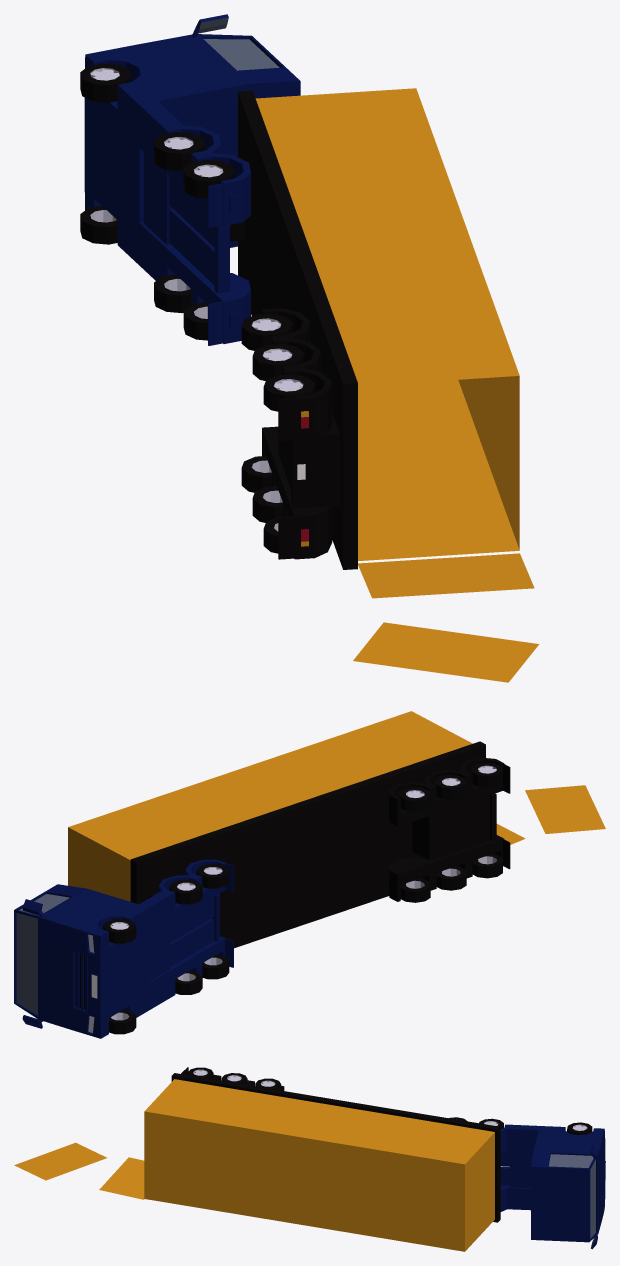
Rendered from CrashedTruck.fbx.
3 views of the same model, one above another, from view 1: azimuth 30°, elevation 25°; view 2: azimuth 150°, elevation 25°; view 3: azimuth 270°, elevation 25° (orthographic). The views are drawn at different scales.
Parts seen in each view (by area): view 1: Truck with trailer.002; view 2: Truck with trailer.002; view 3: Truck with trailer.002.
Boxes of the visible parts, left/top/right/bottom form: Truck with trailer.002: left=80, top=14, right=539, bottom=682; Truck with trailer.002: left=14, top=711, right=605, bottom=1038; Truck with trailer.002: left=14, top=1067, right=605, bottom=1251.
Bounding box in the file's own units: 11.99 × 5.2 × 27.15.
